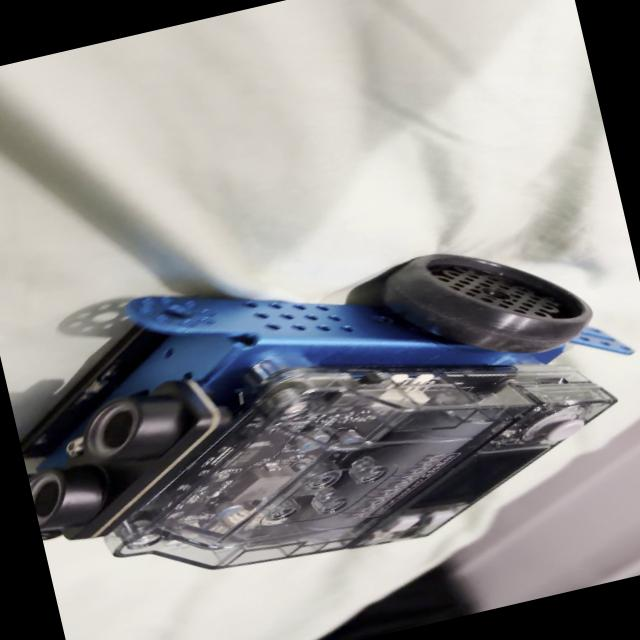mbot-detection: (0, 170, 640, 629)
